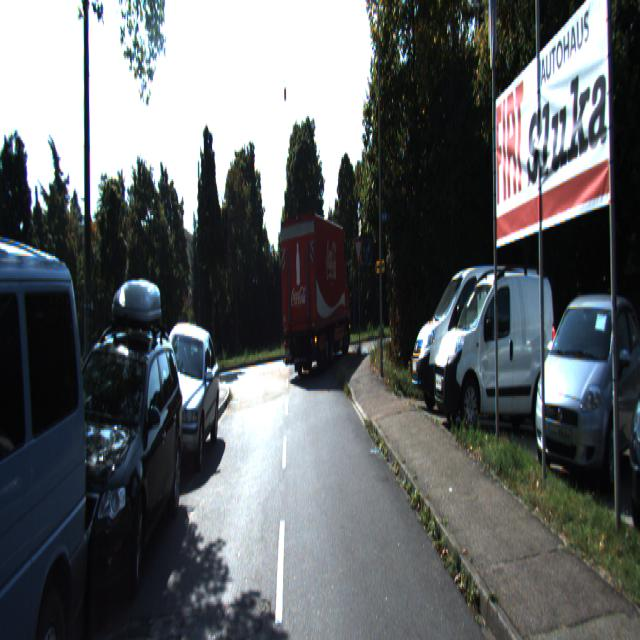Car: (18, 323, 186, 638), (0, 216, 99, 639), (409, 258, 548, 416), (431, 264, 557, 437), (534, 295, 639, 502), (148, 316, 223, 484), (277, 212, 351, 382), (630, 280, 640, 537)
